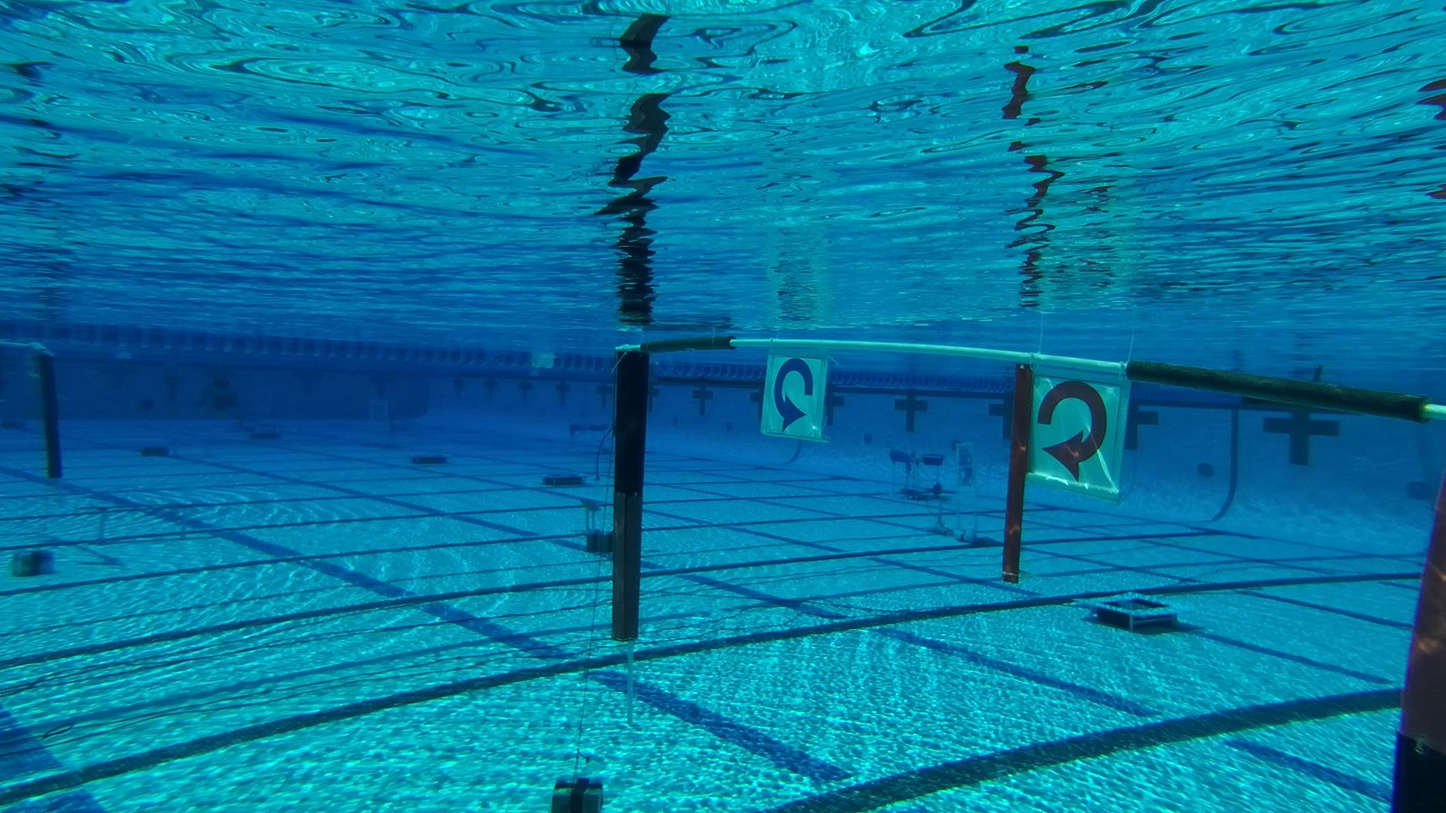blue-gate-sign: (758, 352, 834, 442)
coral-box-side: (891, 449, 944, 498), (569, 423, 608, 452)
dropper-box-side: (1091, 593, 1179, 641), (540, 471, 589, 491), (573, 500, 602, 533), (411, 450, 454, 468)
path: (82, 498, 202, 547), (169, 431, 218, 460), (248, 431, 283, 442)
red octagon: (960, 468, 965, 481), (958, 449, 963, 455), (374, 404, 379, 410), (968, 455, 971, 463), (969, 477, 972, 484), (383, 405, 386, 411), (382, 417, 386, 421), (375, 415, 377, 419)
red-gate-sign: (1030, 379, 1121, 479)
